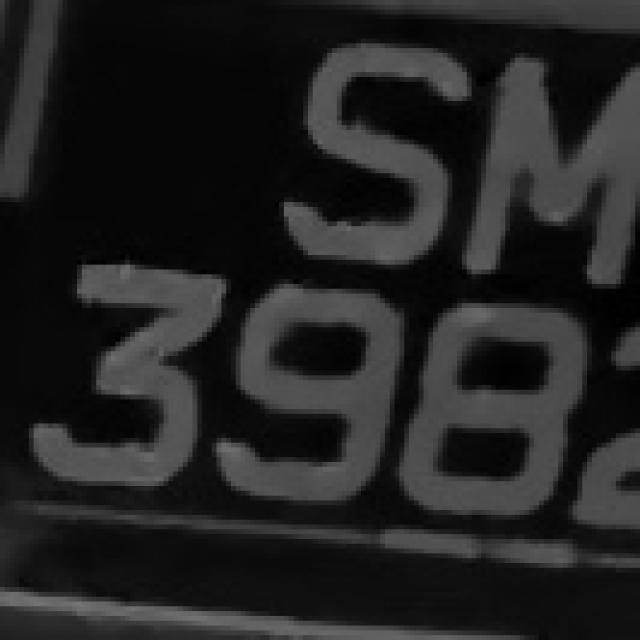3: (44, 236, 222, 505)
8: (404, 294, 578, 524)
9: (216, 270, 400, 520)
M: (467, 44, 640, 274), (3, 0, 5, 2)
S: (260, 44, 452, 274)
